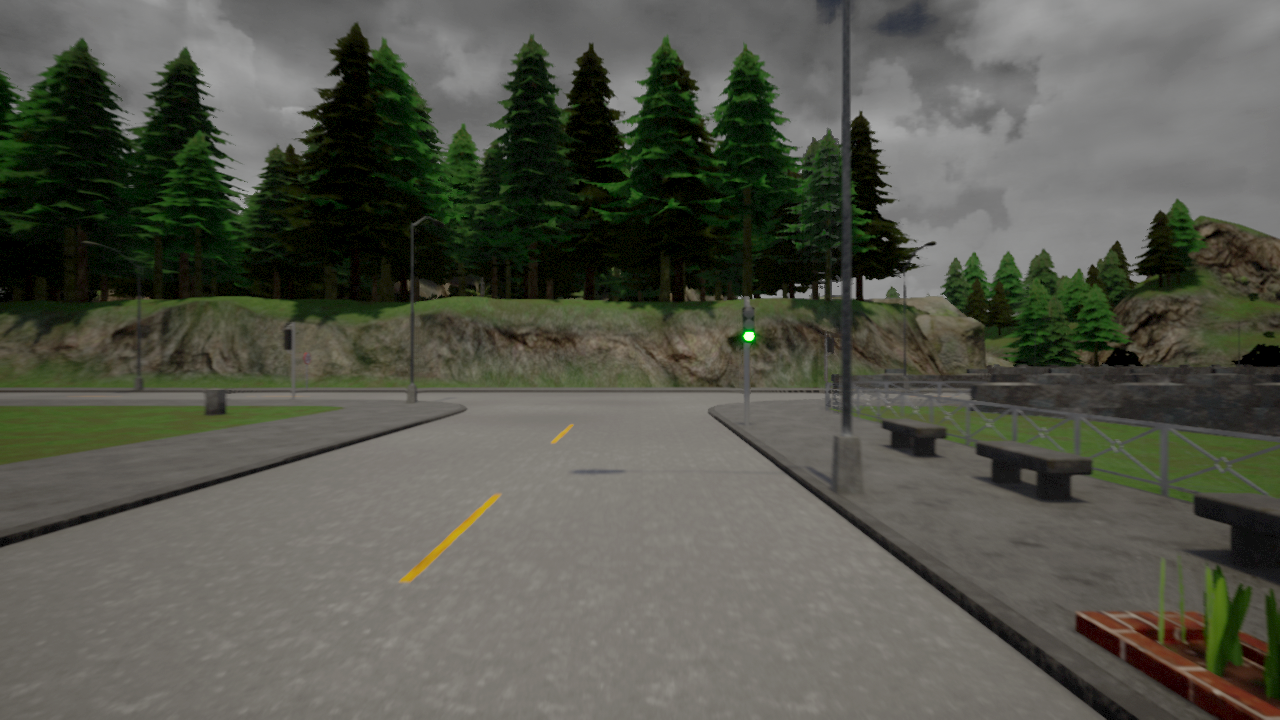green: (740, 305, 757, 344)
